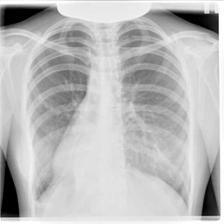tuberculosis: (27, 15, 196, 214)
